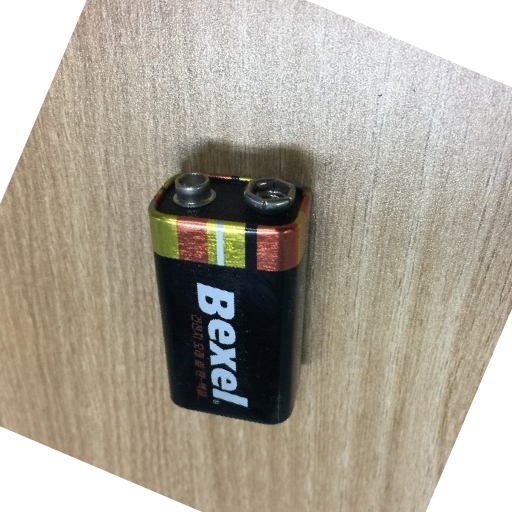Battery_3: (129, 150, 335, 438)
